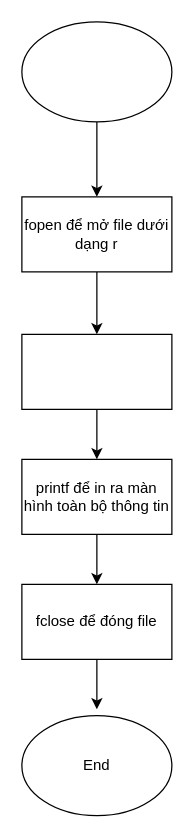
This 194x838 diagram has some shape labels left out. The shapes that lost their labels are listed below. From the top down, each one's box as (x1, y1, x2, y2) in pixels, then its label:
(21, 21, 172, 122): Start
(21, 333, 172, 409): fread để đọc toàn bộ thông tin vào file
